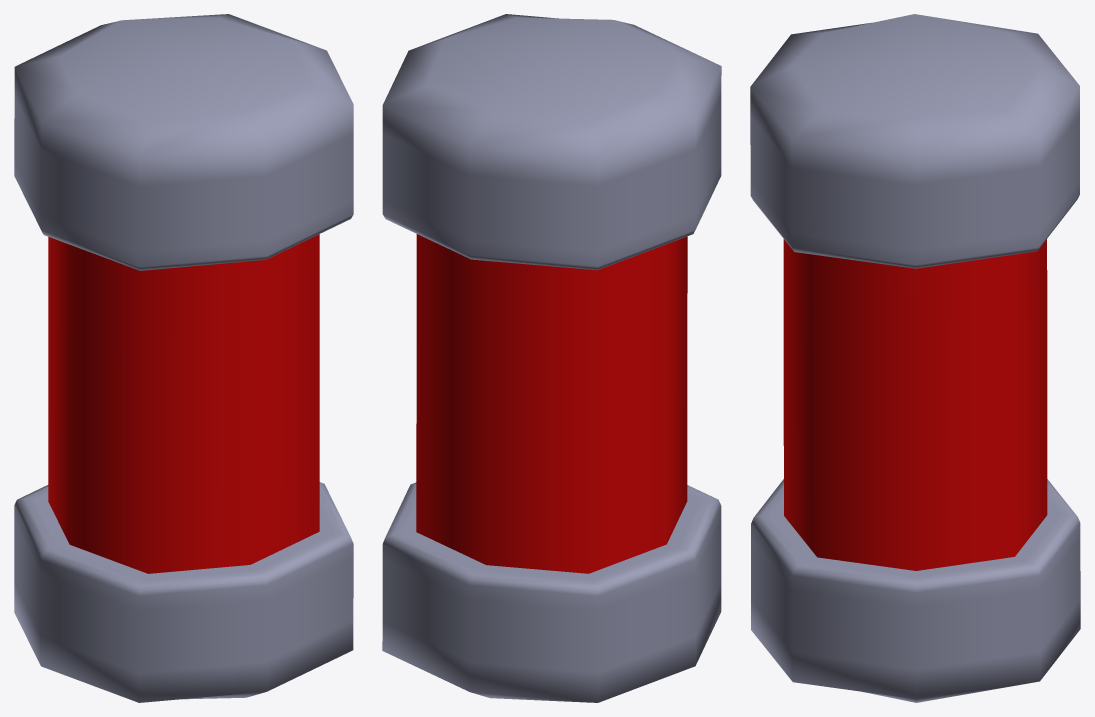
Rendered from dxd.fbx.
3 renders of one model, left to right at view 1: azimuth 30°, elevation 25°; view 2: azimuth 150°, elevation 25°; view 3: azimuth 270°, elevation 25°, orthographic.
Parts seen in each view (by area): view 1: polySurface2; view 2: polySurface2; view 3: polySurface2.
Part boxes in pixels (bbox=[...]): polySurface2: bbox=[14, 14, 353, 702]; polySurface2: bbox=[382, 14, 721, 702]; polySurface2: bbox=[750, 14, 1080, 702].
Size of the model in its own units: 2.01 by 4.03 by 2.01.
